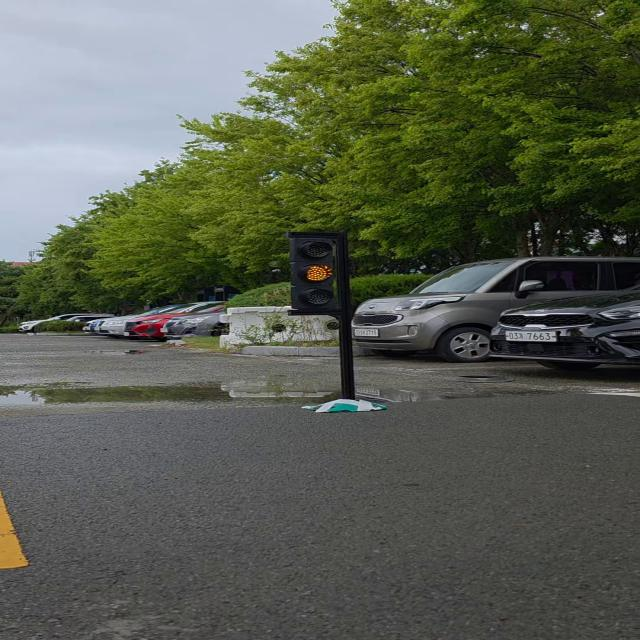yellow: (288, 228, 346, 314)
